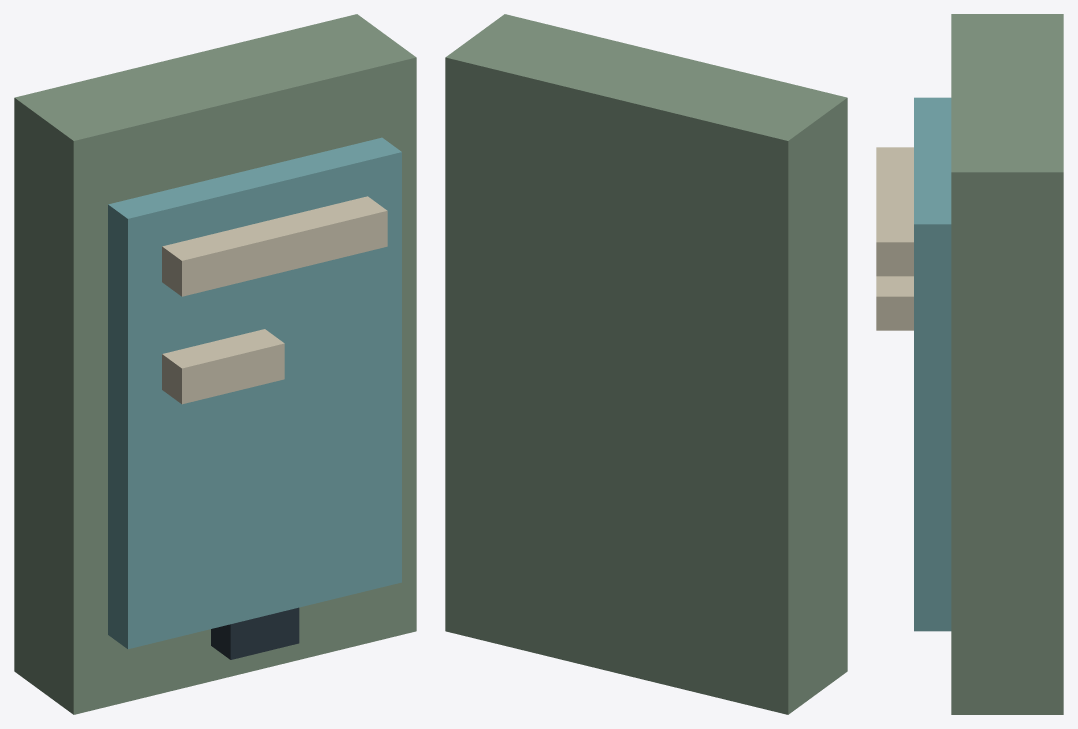
The model's file is geospatial-05.glb.
3 renders of one model, left to right at view 1: azimuth 30°, elevation 25°; view 2: azimuth 150°, elevation 25°; view 3: azimuth 270°, elevation 25°, orthographic. The views are drawn at different scales.
Visible parts, largest first — view 1: GPS receiver; view 2: GPS receiver; view 3: GPS receiver.
Boxes of the visible parts, x1=… form: GPS receiver: x1=14, y1=14, x2=416, y2=714; GPS receiver: x1=445, y1=14, x2=847, y2=714; GPS receiver: x1=876, y1=14, x2=1063, y2=714.
Size of the model in its own units: 0.8 by 1.28 by 0.4.
